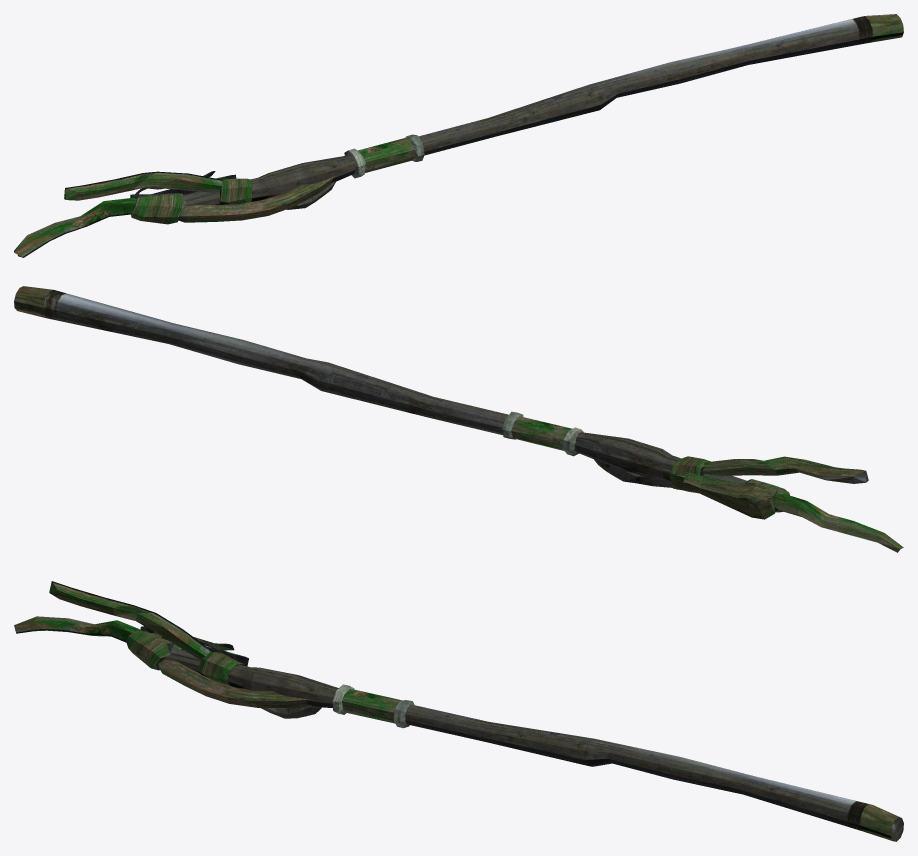
Rendered from ITMW_STAFF_DRUID_01.glb.
3 views of the same model, one above another, from view 1: azimuth 30°, elevation 25°; view 2: azimuth 150°, elevation 25°; view 3: azimuth 330°, elevation 25° (orthographic). The views are drawn at different scales.
Visible parts, largest first — view 1: ITMW_STAFF_DRUID_01; view 2: ITMW_STAFF_DRUID_01; view 3: ITMW_STAFF_DRUID_01.
Boxes of the visible parts, left/top/right/bottom form: ITMW_STAFF_DRUID_01: left=14, top=14, right=903, bottom=257; ITMW_STAFF_DRUID_01: left=14, top=286, right=903, bottom=552; ITMW_STAFF_DRUID_01: left=14, top=581, right=903, bottom=841.
Size of the model in its own units: 1.76 by 0.1396 by 0.1231.
Materials: 1 (1 with a texture image).
